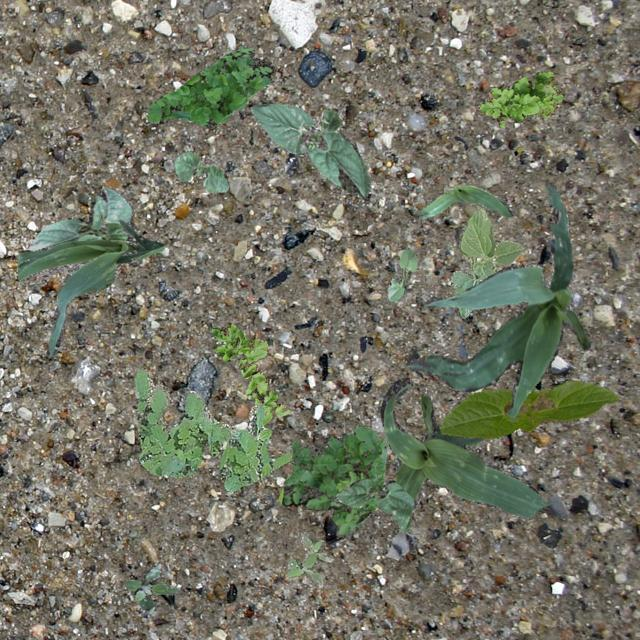crop: (407, 182, 590, 416), (378, 376, 552, 532), (17, 220, 164, 356), (250, 102, 370, 196), (438, 380, 616, 438), (450, 208, 522, 316), (27, 187, 132, 250), (416, 184, 512, 218), (334, 478, 414, 508), (174, 150, 228, 192), (386, 247, 418, 300)
weed: (134, 368, 290, 490), (278, 424, 386, 538), (146, 45, 272, 126), (211, 322, 289, 424), (478, 70, 562, 126), (124, 562, 178, 612), (284, 532, 332, 584), (462, 439, 482, 449)
